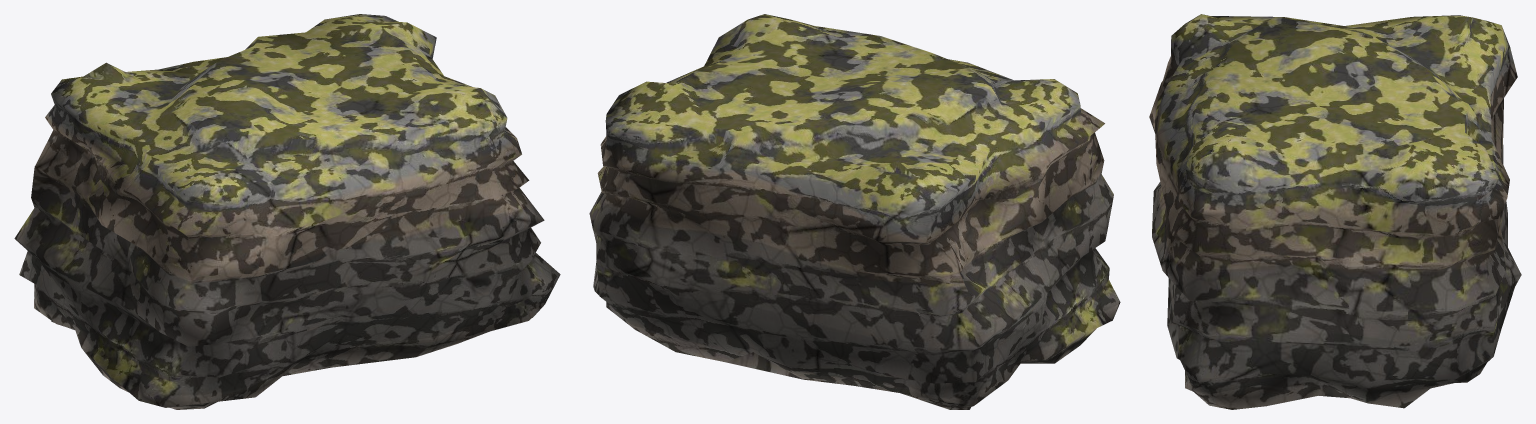
File: rock_01.lod1.glb
3 renders of one model, left to right at view 1: azimuth 30°, elevation 25°; view 2: azimuth 150°, elevation 25°; view 3: azimuth 270°, elevation 25°, orthographic.
Parts seen in each view (by area): view 1: rock_lod1; view 2: rock_lod1; view 3: rock_lod1.
Part boxes in pixels (<box>): rock_lod1: <box>14,14,560,409</box>; rock_lod1: <box>589,14,1120,409</box>; rock_lod1: <box>1149,14,1521,409</box>.
Size of the model in its own units: 2.35 by 1.3 by 1.77.
1 material, 1 textured.
